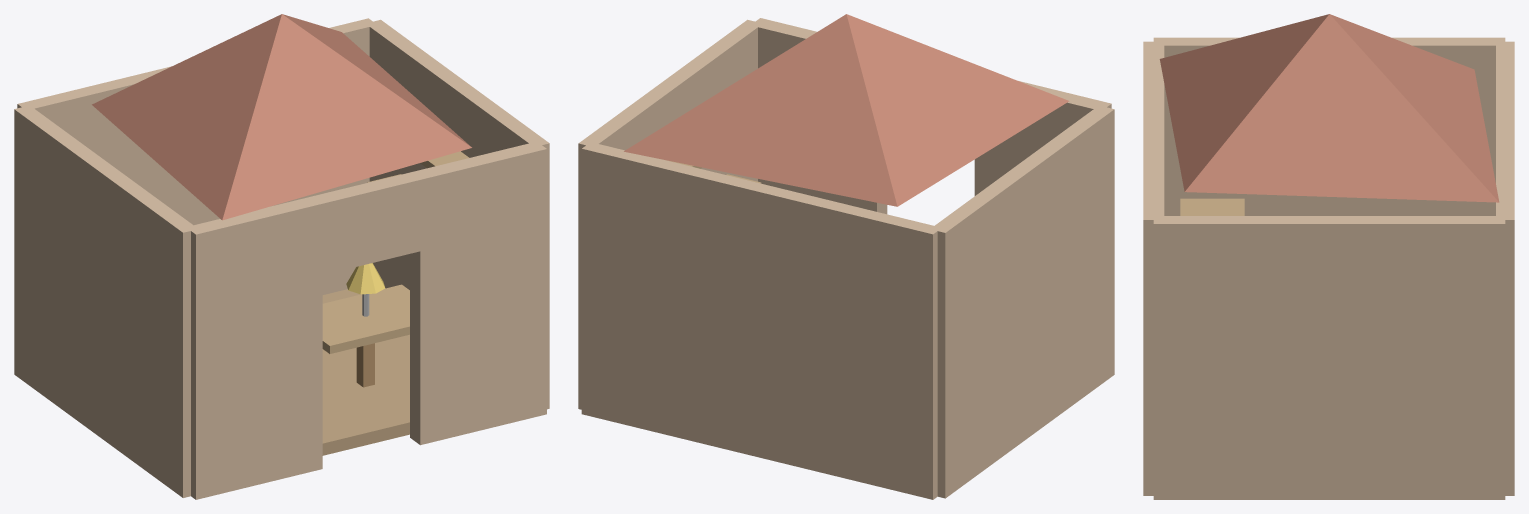
The model's file is house_shed.fbx.
3 renders of one model, left to right at view 1: azimuth 30°, elevation 25°; view 2: azimuth 150°, elevation 25°; view 3: azimuth 270°, elevation 25°, orthographic. The views are drawn at different scales.
Visible parts, largest first — view 1: Left, Roof, Front_R, Front_L, Right, Back, Int_Floor, Front_Top, Int_Table, Int_LampShade, Int_TableLeg; view 2: Back, Left, Roof, Right, Front_L, Front_R; view 3: Right, Roof, Left, Back, Front_R, Front_L, Int_Crate2, Front_Top.
Boxes of the visible parts, left/top/right/bottom form: Left: left=14, top=105, right=197, bottom=497; Roof: left=92, top=14, right=471, bottom=220; Front_R: left=410, top=141, right=546, bottom=445; Front_L: left=186, top=196, right=322, bottom=499; Right: left=367, top=19, right=549, bottom=409; Back: left=17, top=18, right=376, bottom=294; Int_Floor: left=322, top=289, right=409, bottom=455; Front_Top: left=313, top=172, right=420, bottom=274; Int_Table: left=322, top=284, right=409, bottom=353; Int_LampShade: left=346, top=263, right=385, bottom=294; Int_TableLeg: left=356, top=343, right=374, bottom=387; Back: left=581, top=142, right=941, bottom=499; Left: left=930, top=106, right=1114, bottom=498; Roof: left=624, top=14, right=1069, bottom=206; Right: left=578, top=19, right=762, bottom=409; Front_L: left=974, top=81, right=1111, bottom=195; Front_R: left=751, top=18, right=887, bottom=214; Right: left=1153, top=216, right=1505, bottom=499; Roof: left=1159, top=14, right=1499, bottom=202; Left: left=1153, top=37, right=1505, bottom=215; Back: left=1496, top=41, right=1514, bottom=495; Front_R: left=1143, top=155, right=1164, bottom=495; Front_L: left=1143, top=41, right=1164, bottom=105; Int_Crate2: left=1180, top=198, right=1244, bottom=215; Front_Top: left=1143, top=106, right=1164, bottom=155.
Bounding box in the file's own units: 3.76 × 3.7 × 3.17.
